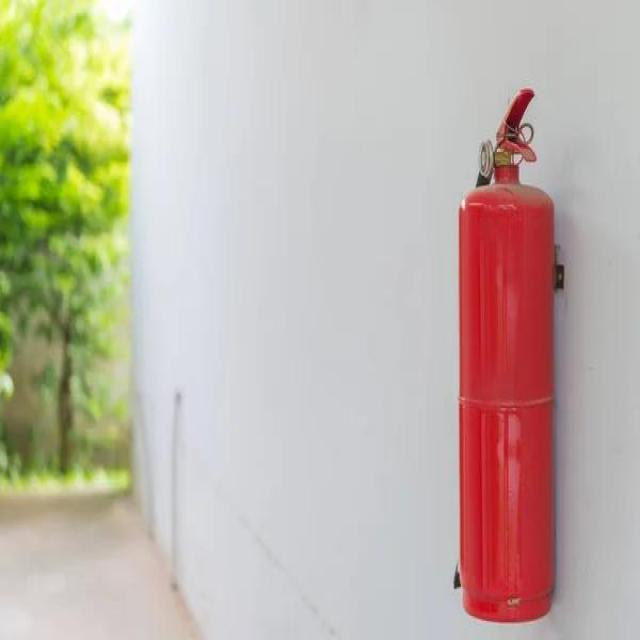fire_extinguisher: (452, 82, 566, 624)
